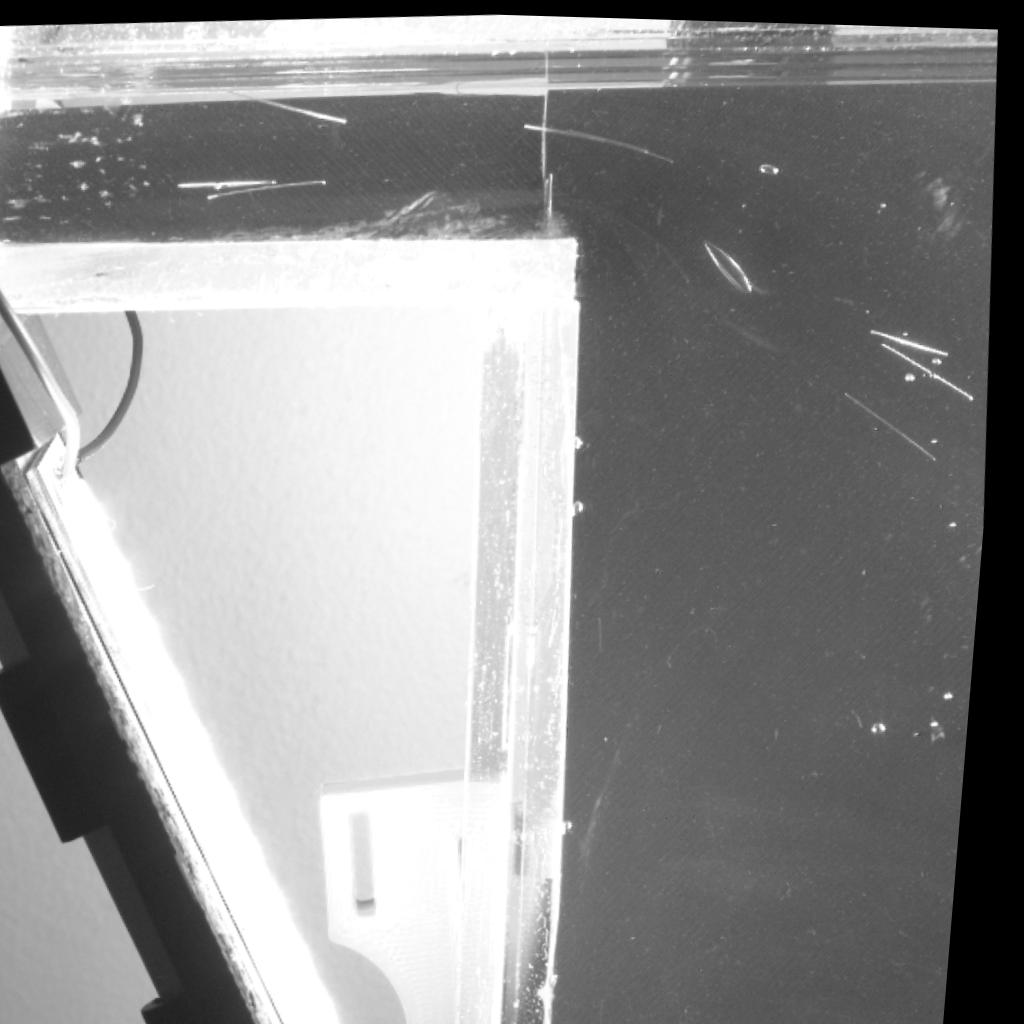Fiber: (847, 384, 947, 462), (521, 115, 678, 163), (882, 334, 984, 399), (222, 83, 356, 126), (207, 170, 331, 206), (875, 320, 955, 354), (179, 175, 289, 192)
